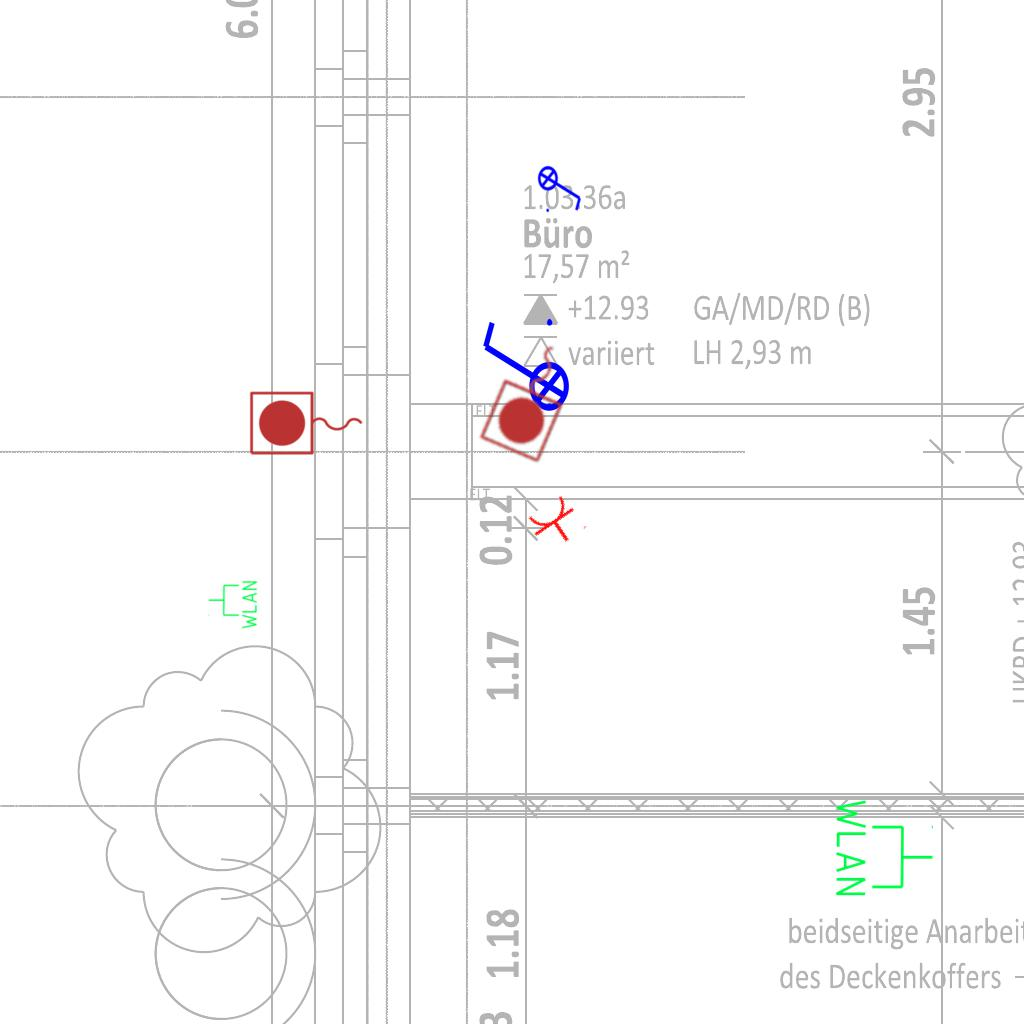Ausschalter_beleuchtet: (475, 313, 571, 425), (537, 159, 585, 215)
Schukosteckdose_einfach: (523, 491, 590, 555)
WLAN: (832, 795, 936, 900), (207, 579, 259, 631)
Zugtaster: (475, 327, 589, 469), (246, 388, 368, 460)
